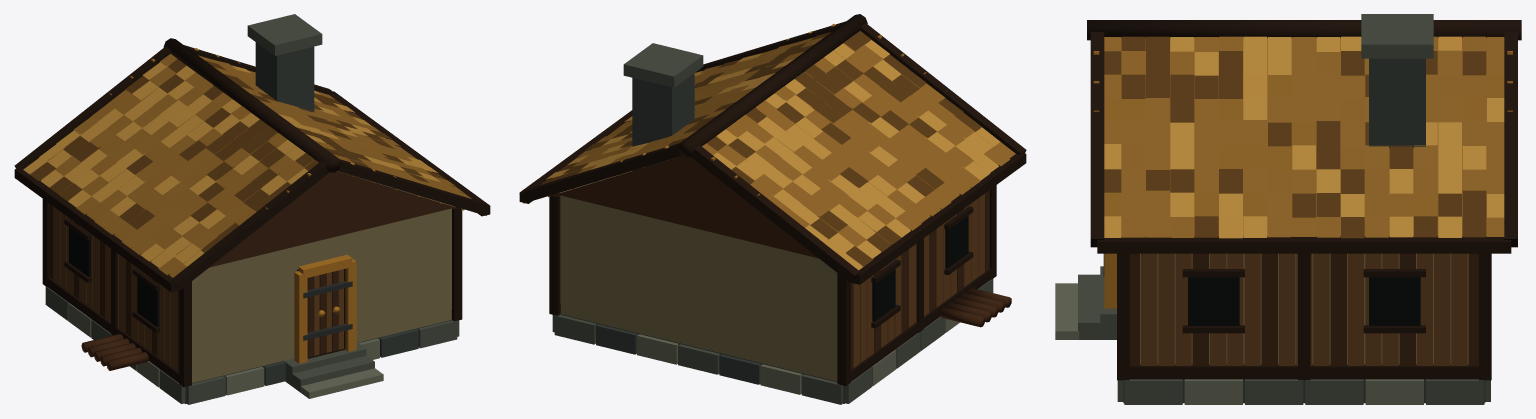
File: CottageB.fbx
3 views of the same model, side by side, from view 1: azimuth 30°, elevation 25°; view 2: azimuth 150°, elevation 25°; view 3: azimuth 270°, elevation 25° (orthographic). The views are drawn at different scales.
Parts seen in each view (by area): view 1: CottageB_LOD0; view 2: CottageB_LOD0; view 3: CottageB_LOD0.
Boxes of the visible parts, x1,y1,x2,y2 form: CottageB_LOD0: (14,14,490,404); CottageB_LOD0: (519,14,1026,404); CottageB_LOD0: (1055,14,1521,404).
Size of what is drawn, in the model's own units: 10.12 by 7.05 by 9.01.
